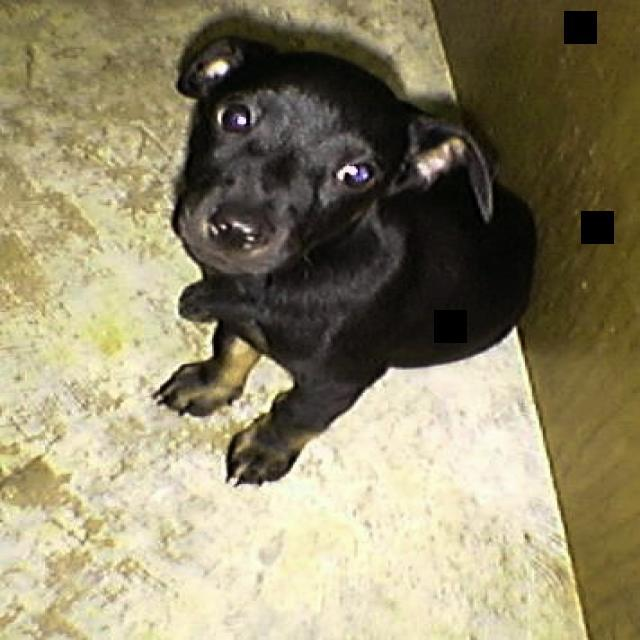puppy-dog: (147, 34, 538, 489)
